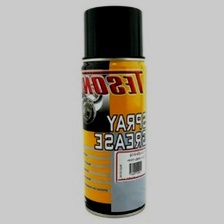aerosol_cans: (77, 3, 150, 220)
